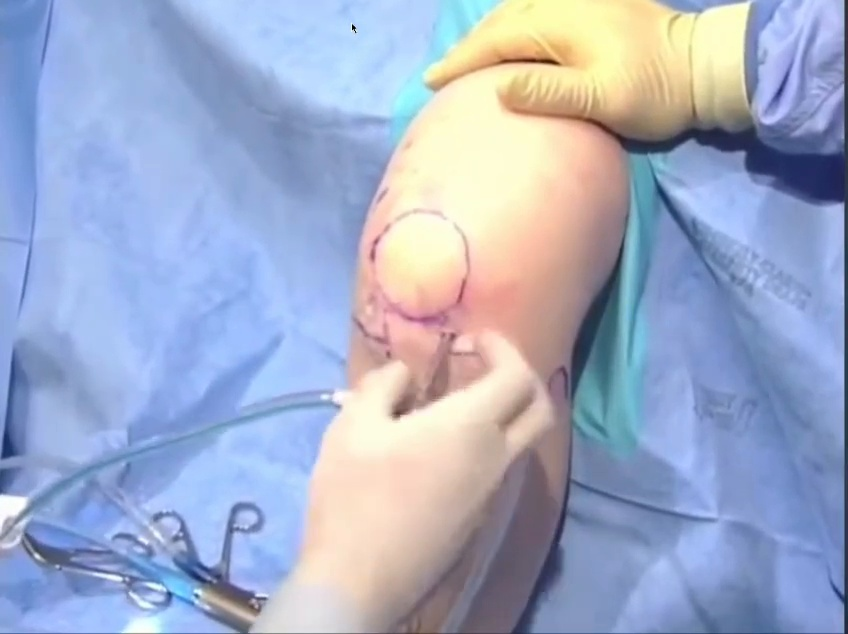arthroscope: (626, 0, 848, 171), (23, 228, 155, 462)
probe: (734, 160, 848, 610), (268, 208, 402, 477), (644, 165, 808, 332), (116, 128, 214, 216)
